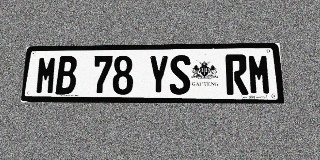7: (91, 56, 113, 94)
8: (112, 55, 134, 94)
B: (55, 56, 78, 94)
M: (247, 54, 272, 95), (35, 56, 58, 94)
R: (225, 54, 249, 95)
S: (170, 55, 191, 95)
Y: (148, 55, 169, 95)
